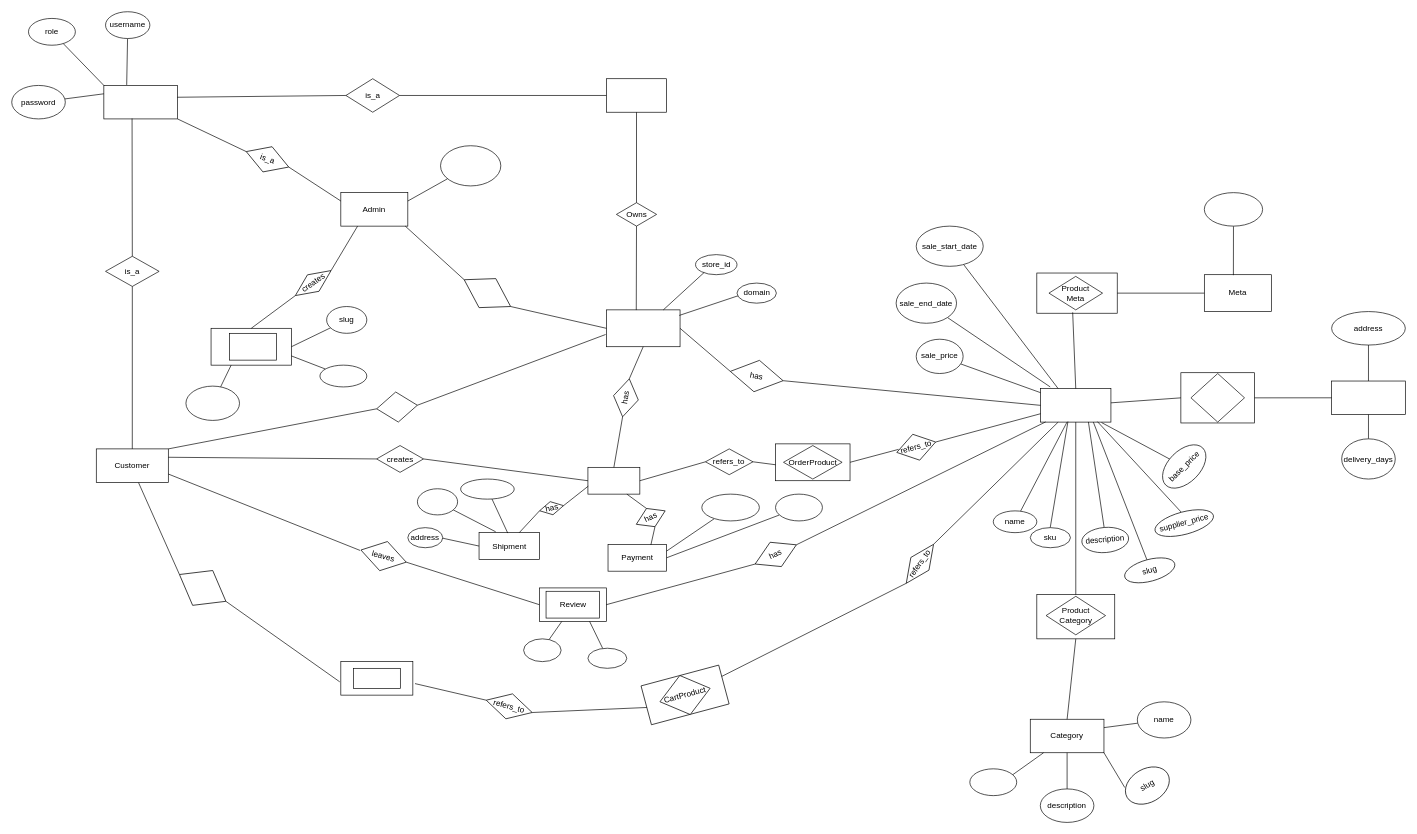
This 1417x834 diagram has some shape labels left out. Here are the shapes that lost their labels. From the top down, the box of each, then its label:
(103, 85, 178, 119): User
(606, 78, 667, 112): Merchant
(440, 145, 501, 186): permissions
(1204, 192, 1263, 226): value
(455, 264, 519, 321): manages
(229, 333, 276, 360): BlogPost
(606, 309, 680, 347): Online Store
(319, 364, 367, 387): title
(185, 385, 240, 420): content
(375, 390, 419, 424): shops
(1040, 388, 1111, 422): Product
(1190, 373, 1245, 422): Product Warehouse
(1331, 380, 1405, 415): Warehouse
(460, 478, 514, 499): delivery_type
(587, 467, 640, 494): Order
(417, 488, 458, 515): city_code
(701, 493, 759, 521): payment_type
(775, 493, 822, 521): status
(169, 556, 236, 619): initiates
(523, 638, 561, 662): comment
(587, 648, 627, 668): rating
(353, 668, 400, 688): Shopping Cart
(969, 768, 1017, 796): id
